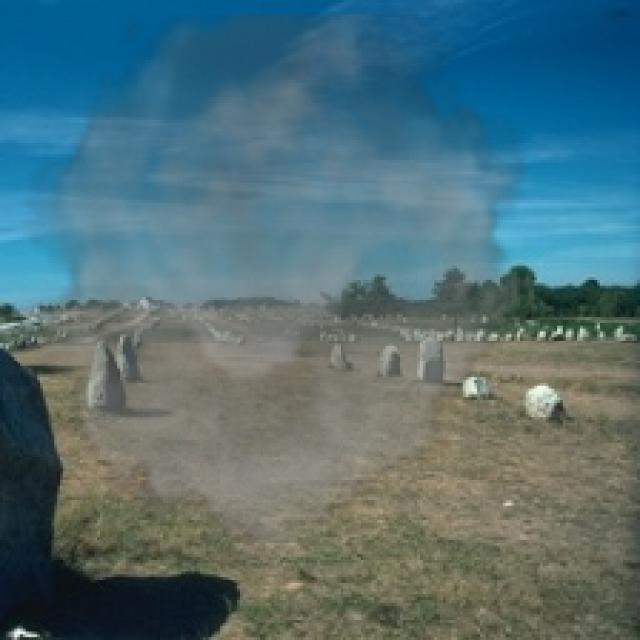Smoke: (11, 14, 546, 543)
